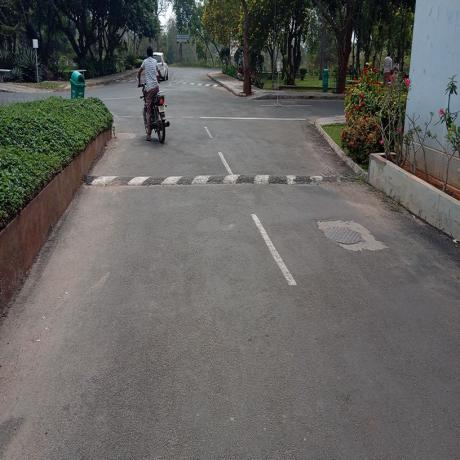Speed Bump: (83, 171, 362, 185)
